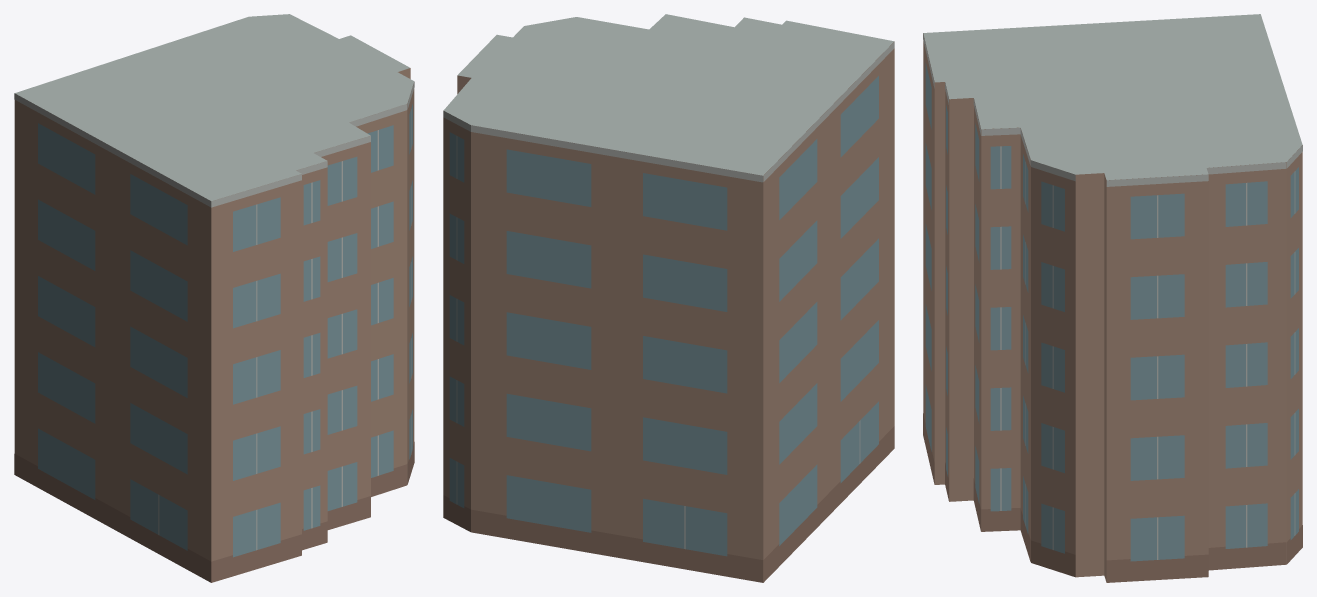
File: survey-upis-32978354.glb
3 renders of one model, left to right at view 1: azimuth 30°, elevation 25°; view 2: azimuth 150°, elevation 25°; view 3: azimuth 270°, elevation 25°, orthographic. The views are drawn at different scales.
Visible parts, largest first — view 1: survey-upis-32978354.tmp; view 2: survey-upis-32978354.tmp; view 3: survey-upis-32978354.tmp.
Boxes of the visible parts, x1,y1,x2,y2 form: survey-upis-32978354.tmp: (14, 14, 414, 582); survey-upis-32978354.tmp: (443, 14, 894, 582); survey-upis-32978354.tmp: (923, 14, 1302, 582).
Bounding box in the file's own units: 12.94 × 14.6 × 12.48.
